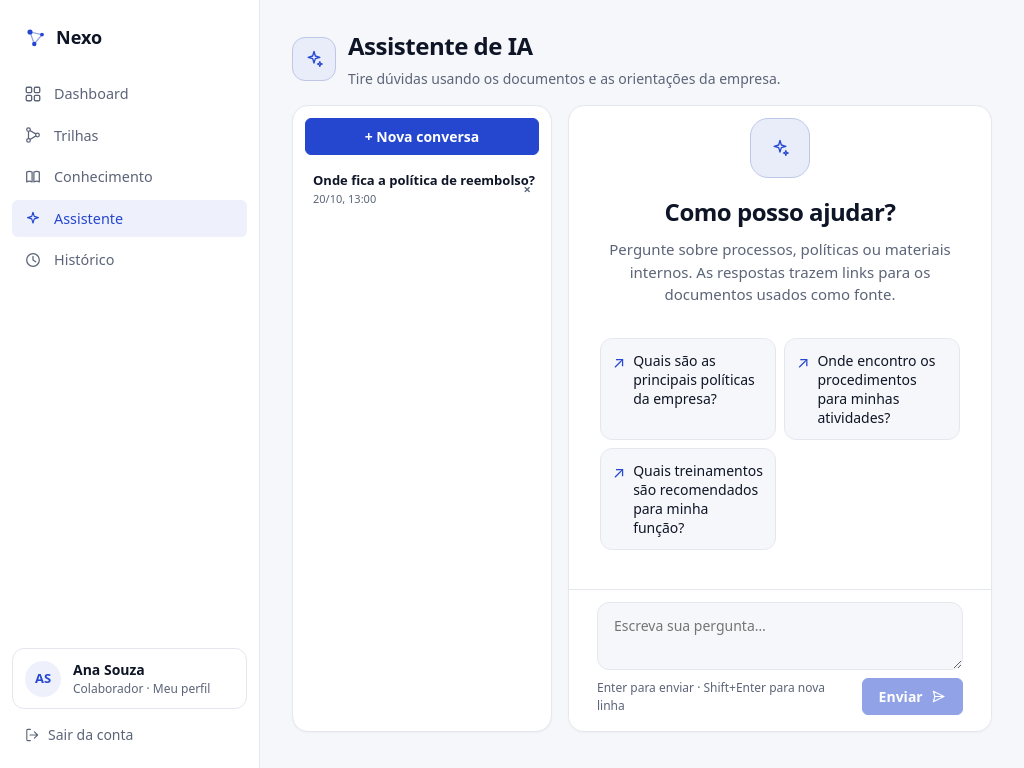
Scenario: AssistentePage › abre o documento pelo ID quando a API manda as fontes detalhadas
(page scrolled)
In the text box labelled "Escreva sua pergunta": (780, 636) [597,602,963,670], type "Backup?"
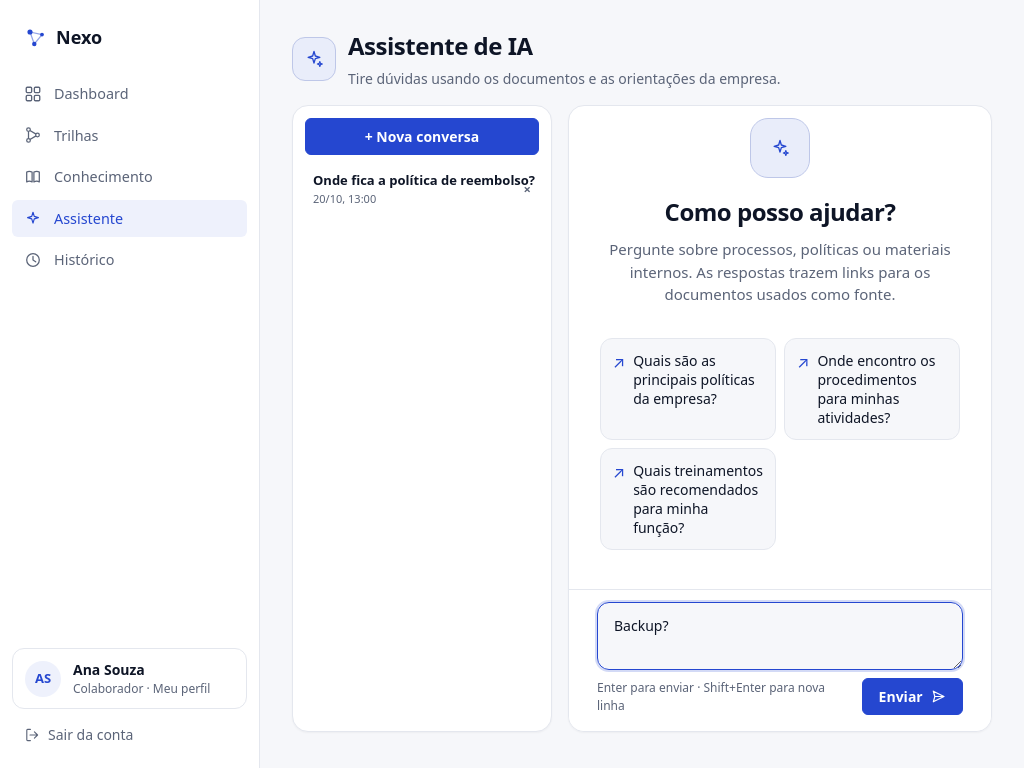
Press Enter
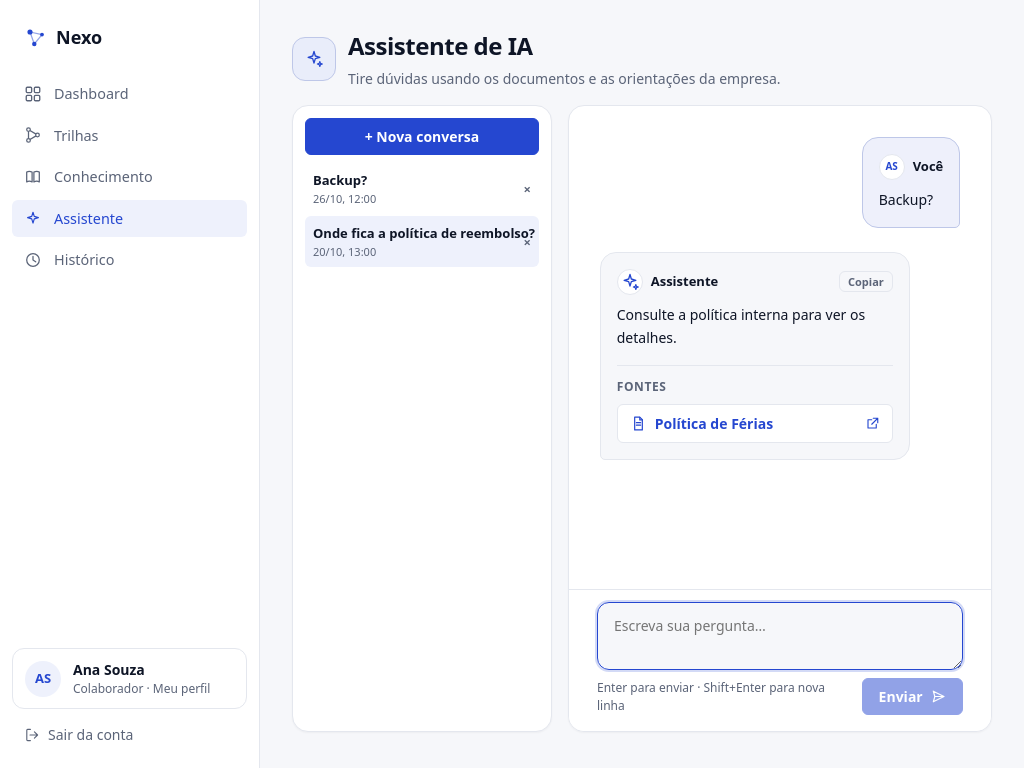
Now the number of links "Política de Férias" is 1, box [630,413,880,434]
